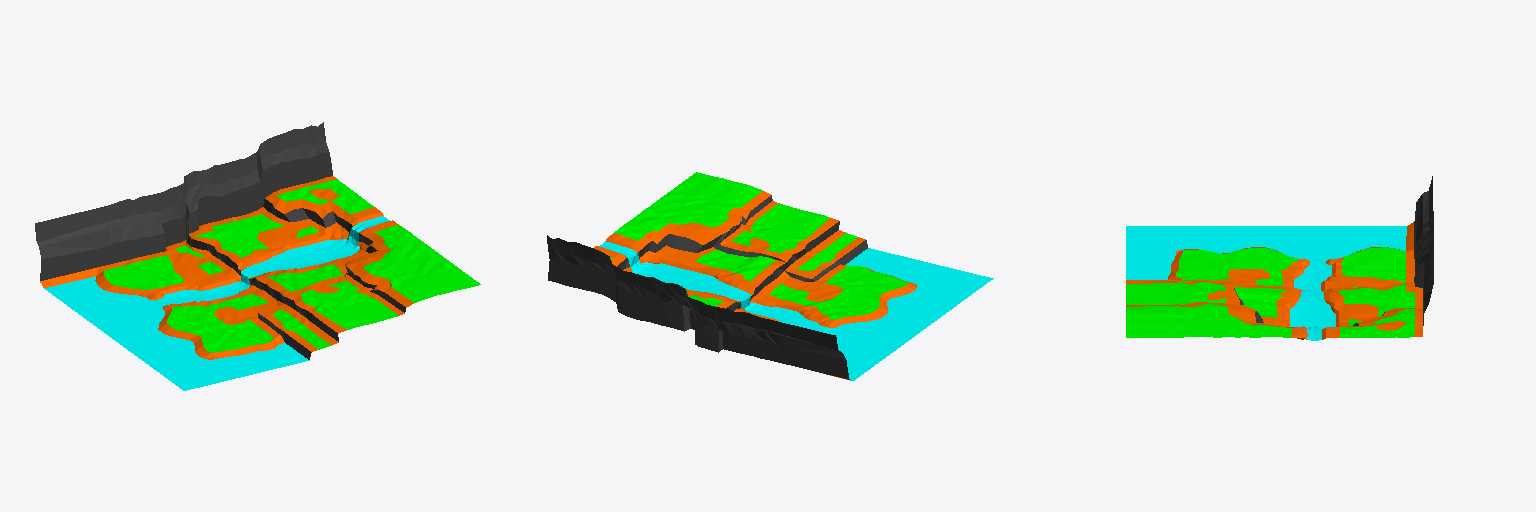
Rendered from map.obj.
The picture shows the model from 3 angles: view 1: azimuth 30°, elevation 25°; view 2: azimuth 150°, elevation 25°; view 3: azimuth 270°, elevation 25°; orthographic projection.
Size of the model in its own units: 77.39 by 21.15 by 69.34.